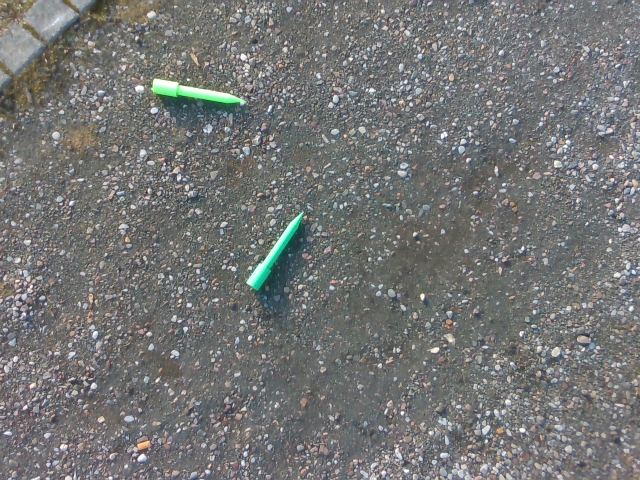Probe: (244, 207, 309, 298), (146, 71, 250, 107)
